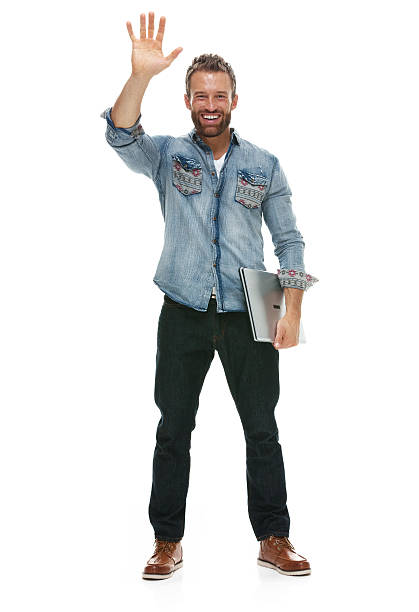open_hand: (117, 9, 189, 78)
